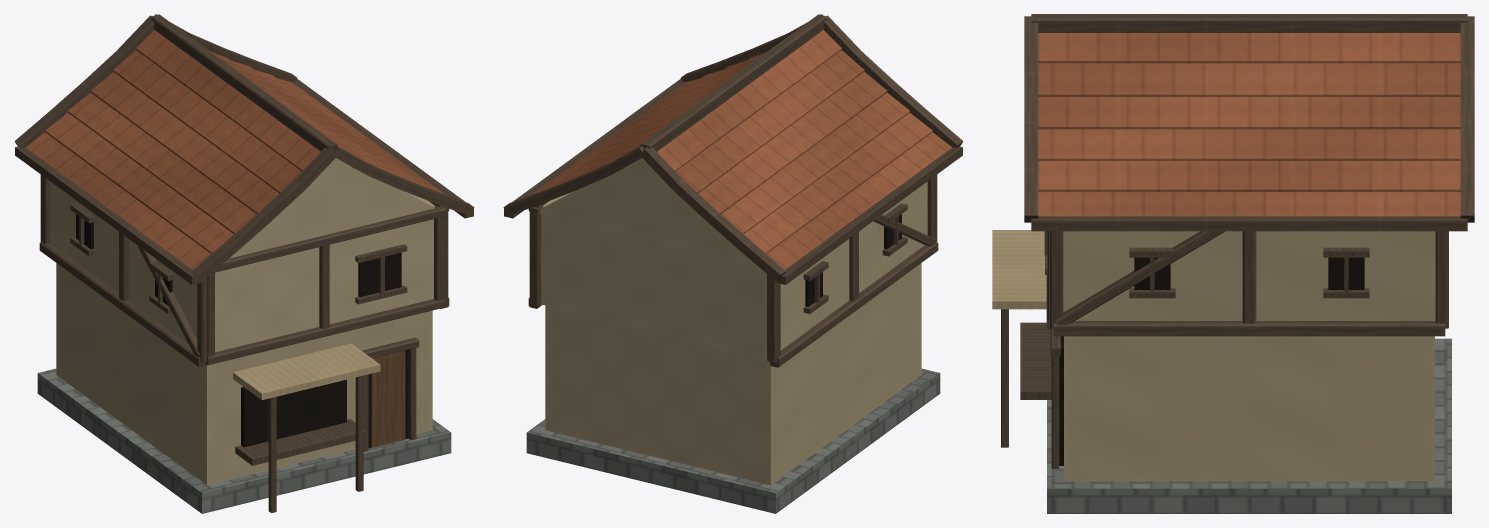
The model's file is renaissance-workshop.glb.
The picture shows the model from 3 angles, left to right: view 1: azimuth 30°, elevation 25°; view 2: azimuth 150°, elevation 25°; view 3: azimuth 270°, elevation 25°; orthographic projection. The views are drawn at different scales.
Visible parts, largest first — view 1: renaissance-workshop; view 2: renaissance-workshop; view 3: renaissance-workshop.
Part boxes in pixels (<box>): renaissance-workshop: <box>14,14,474,513</box>; renaissance-workshop: <box>503,14,963,513</box>; renaissance-workshop: <box>992,14,1474,513</box>.
Bounding box in the file's own units: 0.7147 × 0.8319 × 0.86.
Materials: 1 (1 with a texture image).
